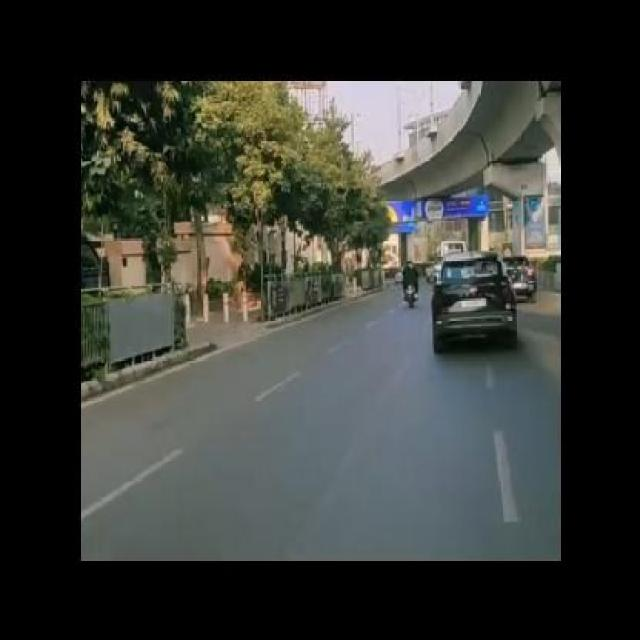car: (431, 252, 518, 354)
motorbike: (402, 260, 420, 308)
